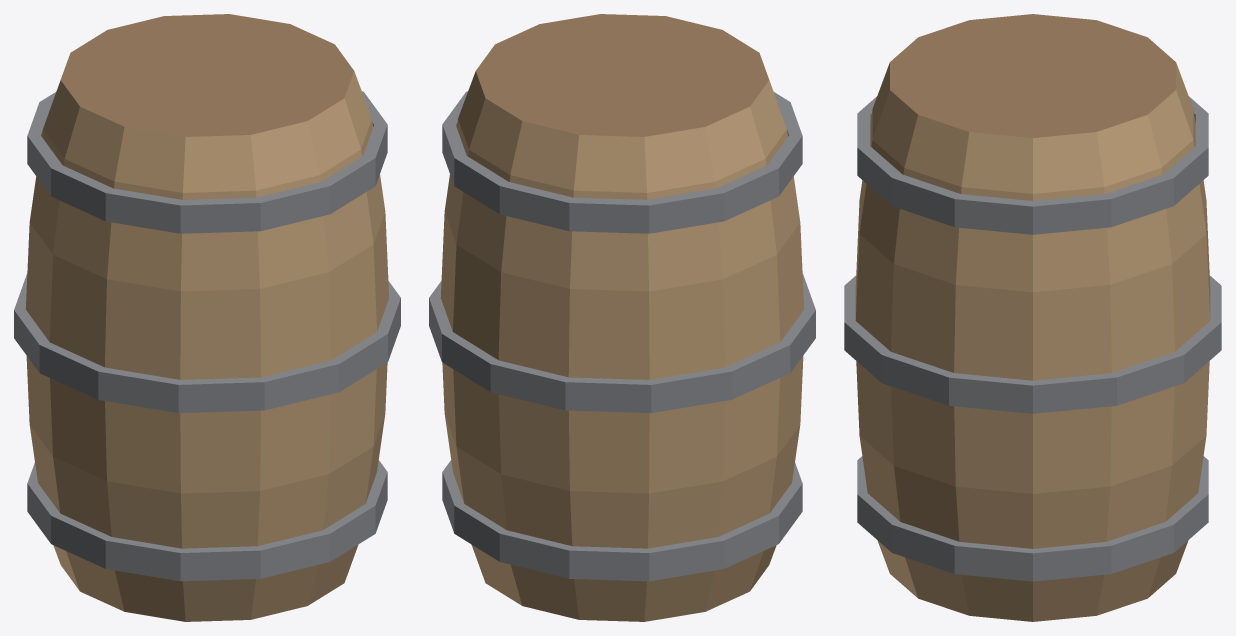
Rendered from Barrel.fbx.
3 views of the same model, side by side, from view 1: azimuth 30°, elevation 25°; view 2: azimuth 150°, elevation 25°; view 3: azimuth 270°, elevation 25° (orthographic).
Parts seen in each view (by area): view 1: Barrel; view 2: Barrel; view 3: Barrel.
Part boxes in pixels (x1,y1,x2,y2): Barrel: (14, 14, 400, 621); Barrel: (429, 14, 815, 621); Barrel: (844, 14, 1221, 621).
Bounding box in the file's own units: 0.87 × 1.2 × 0.8482.
